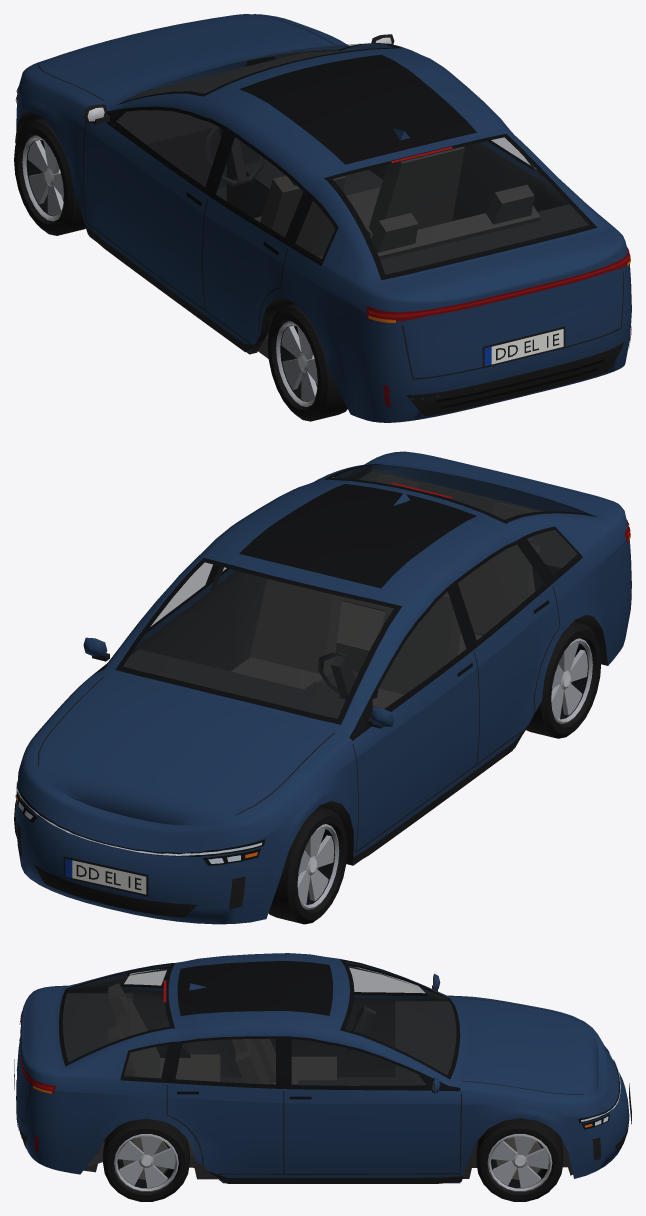
File: elektro_limo.glb
The picture shows the model from 3 angles, top to bottom: view 1: azimuth 30°, elevation 25°; view 2: azimuth 150°, elevation 25°; view 3: azimuth 270°, elevation 25°; orthographic projection. The views are drawn at different scales.
Visible parts, largest first — view 1: Body, Glass, Interior, Tire_RL, Tire_FL, Rim_RL, Rim_FL, Lights; view 2: Body, Glass, Interior, Tire_FL, Tire_RL, Rim_RL, Rim_FL, Lights; view 3: Body, Glass, Interior, Tire_FR, Tire_RR, Rim_RR, Rim_FR, Lights.
Part boxes in pixels (x1,y1,x2,y2): Body: (15, 14, 631, 422); Glass: (116, 43, 588, 273); Interior: (116, 48, 588, 338); Tire_RL: (267, 304, 347, 421); Tire_FL: (14, 118, 85, 235); Rim_RL: (276, 321, 317, 406); Rim_FL: (22, 135, 63, 221); Lights: (15, 89, 631, 407); Body: (15, 451, 631, 924); Glass: (123, 465, 585, 718); Interior: (123, 465, 577, 718); Tire_FL: (268, 806, 347, 924); Tire_RL: (526, 621, 601, 738); Rim_RL: (551, 638, 592, 724); Rim_FL: (297, 824, 339, 909); Lights: (15, 482, 631, 863); Body: (14, 953, 631, 1183); Glass: (63, 962, 455, 1085); Interior: (62, 965, 456, 1167); Tire_FR: (476, 1118, 563, 1201); Tire_RR: (103, 1118, 189, 1201); Rim_RR: (114, 1134, 178, 1191); Rim_FR: (487, 1134, 552, 1191); Lights: (19, 980, 620, 1151).
Size of the model in its own units: 2.04 by 1.44 by 4.77.
